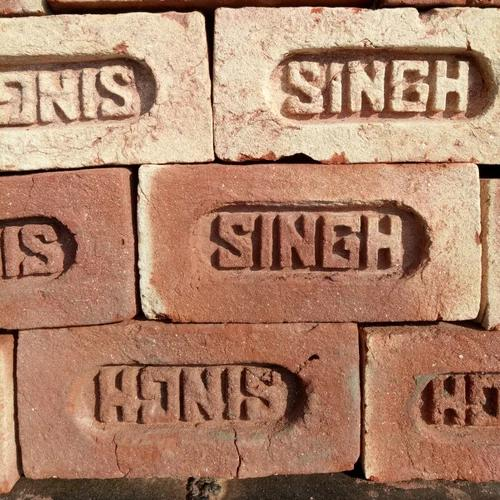brick: (140, 158, 479, 323), (18, 323, 359, 487), (214, 5, 496, 158), (0, 11, 211, 167), (363, 328, 498, 489), (1, 166, 131, 330)
